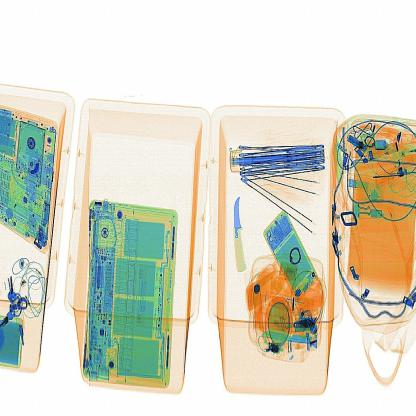wrench: (228, 187, 255, 271)
